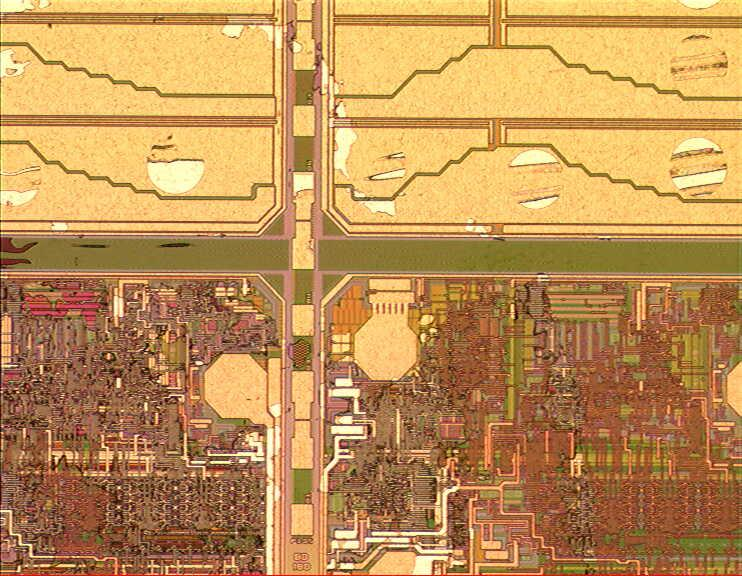COATING BAD: (1, 1, 734, 576)
